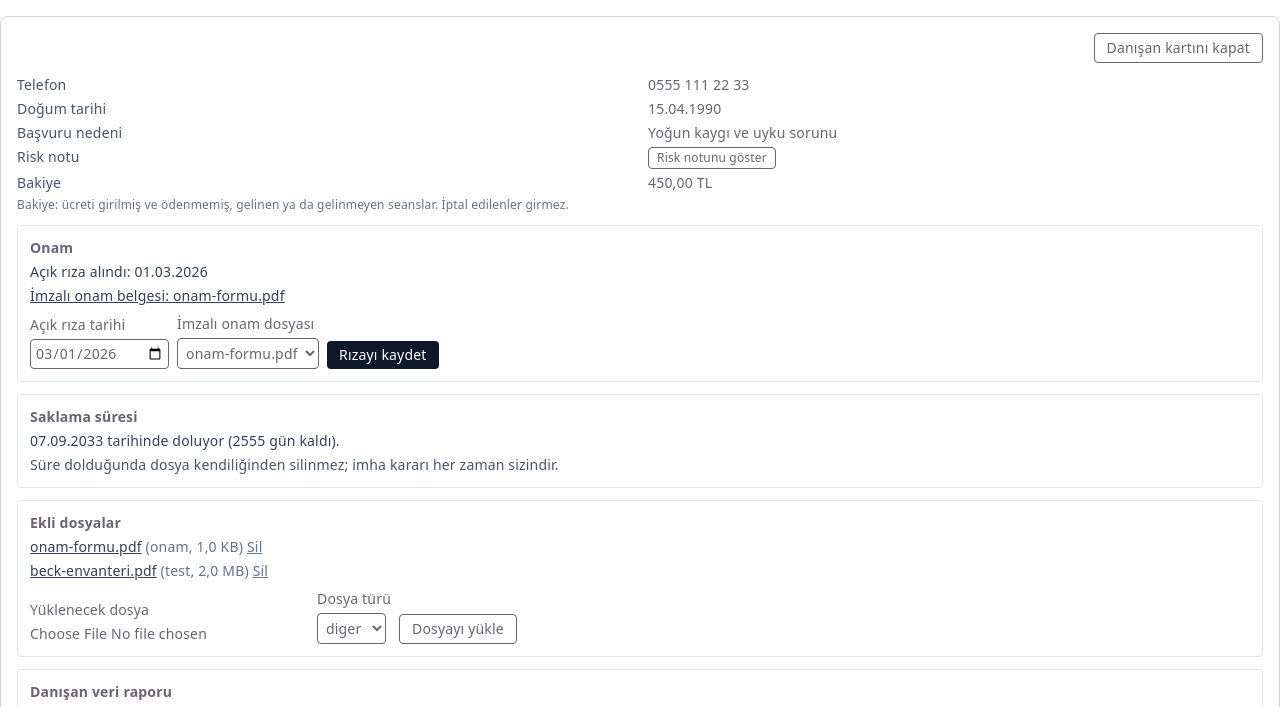
Test: DosyaBilgileri — ekli dosyalar › I3: 401de kart EKRANDAN SILINMEZ, hata gosterilir
What coordinates should you click on to do the following:
click the link "onam-formu.pdf"
I would click on:
 (86, 546)
Its box is [30,537,142,556].
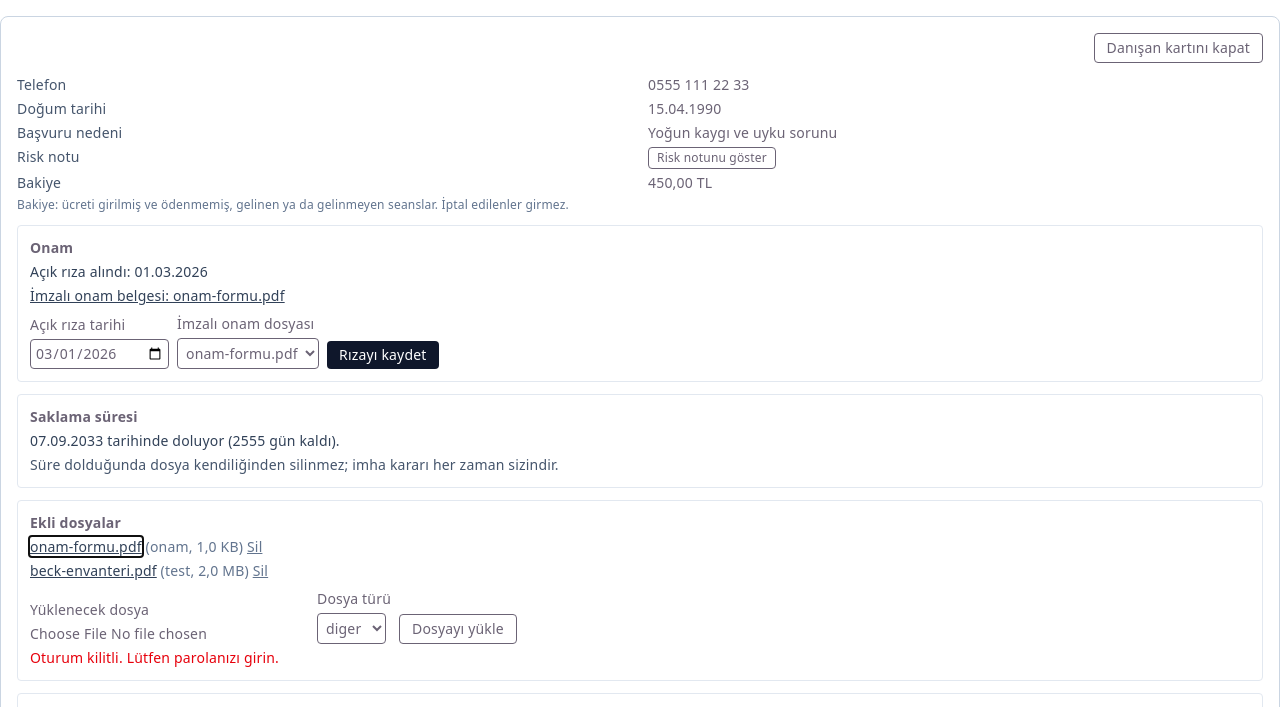
Expected: the element "Ekli dosyalar" is shown, [17,500,1263,681]
Now the text "Oturum kilitli. Lütfen parolanızı girin." is shown, box [30,648,279,667]
